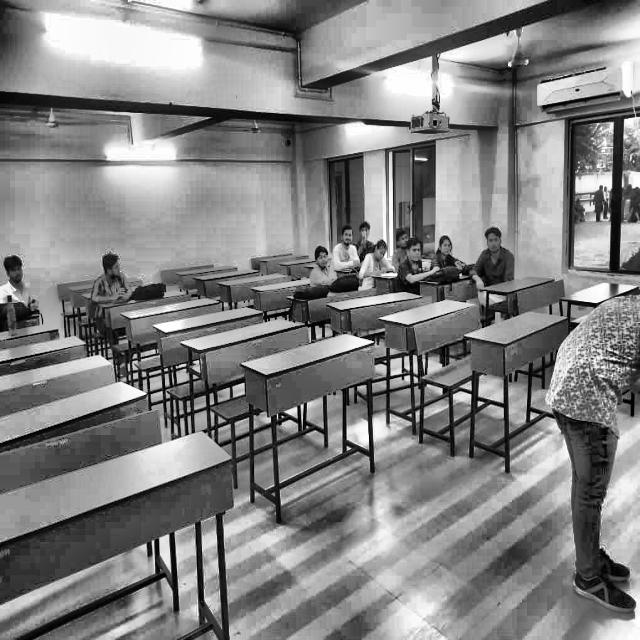Focus: (367, 233, 391, 286)
Not Focus: (91, 250, 169, 331), (306, 220, 371, 283), (1, 243, 44, 332), (470, 219, 532, 275), (397, 236, 466, 284)
